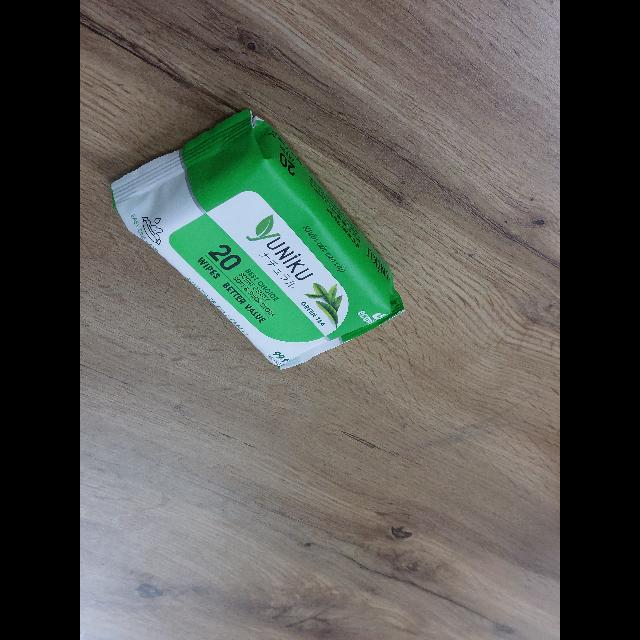khan_giay: (111, 110, 404, 369)
